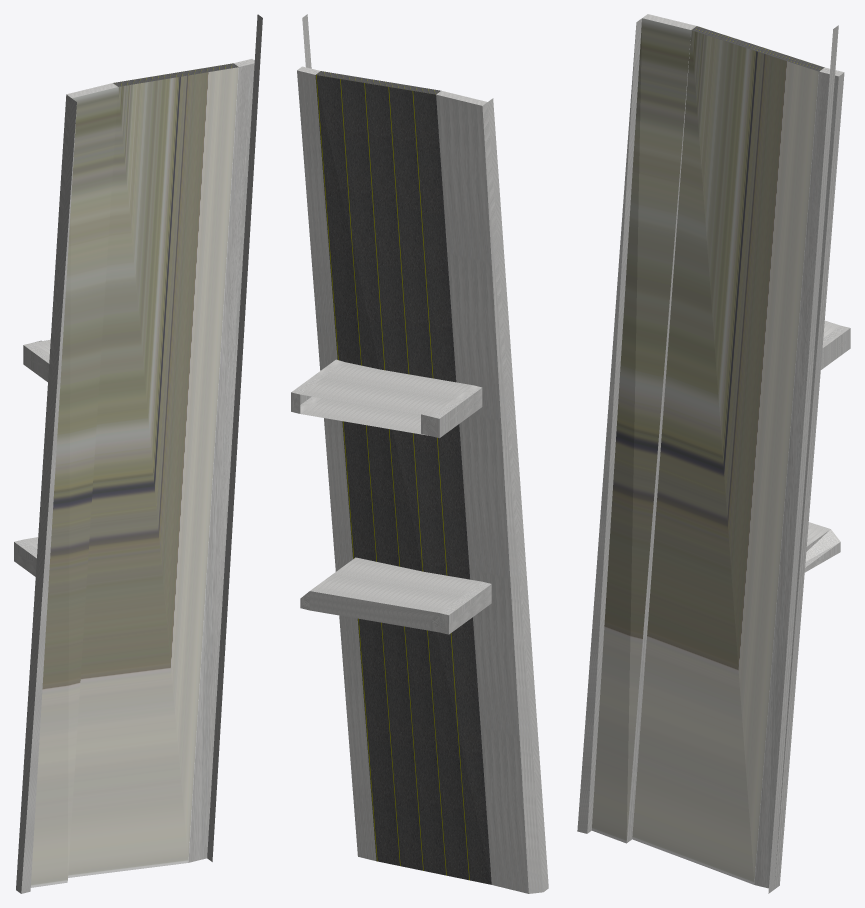
Rendered from novo4p.dae.
3 renders of one model, left to right at view 1: azimuth 30°, elevation 25°; view 2: azimuth 150°, elevation 25°; view 3: azimuth 330°, elevation 25°, orthographic. The views are drawn at different scales.
Visible parts, largest first — view 1: node; view 2: node; view 3: node.
Part boxes in pixels (x1,y1,x2,y2): node: (14,14,262,893); node: (291,14,548,893); node: (577,14,850,893).
Bounding box in the file's own units: 26 × 85 × 11.
Materials: 3 (3 with a texture image).
